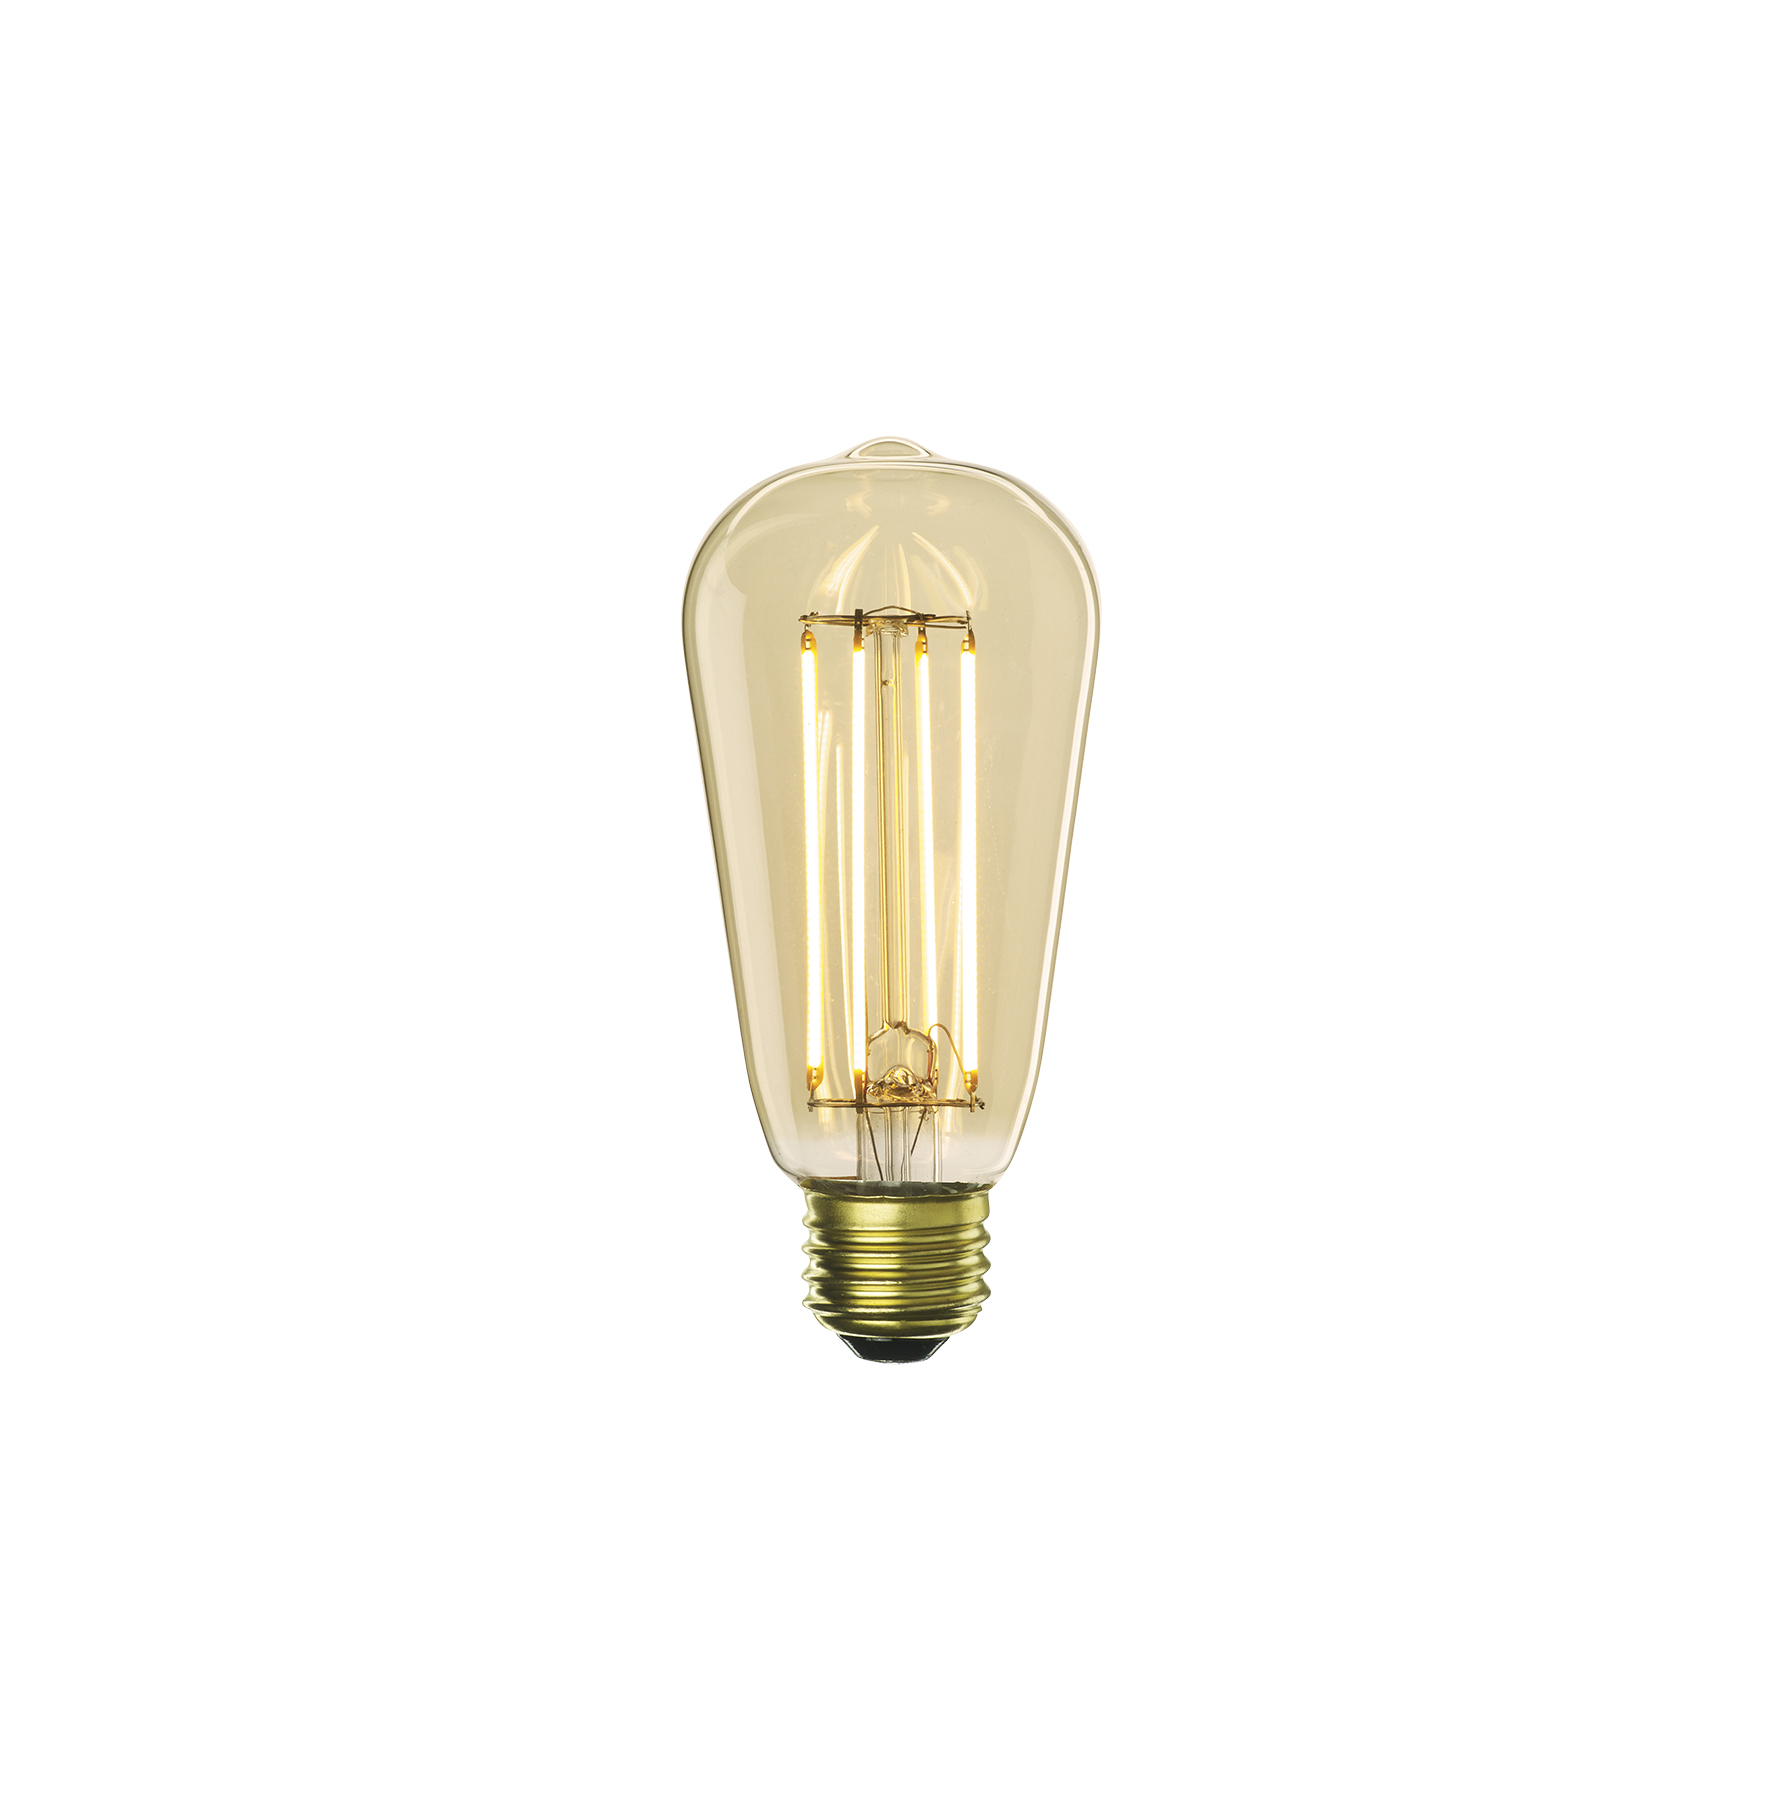bulb: (634, 403, 1139, 1273)
